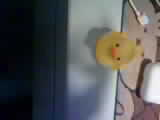duck: (90, 20, 151, 69)
